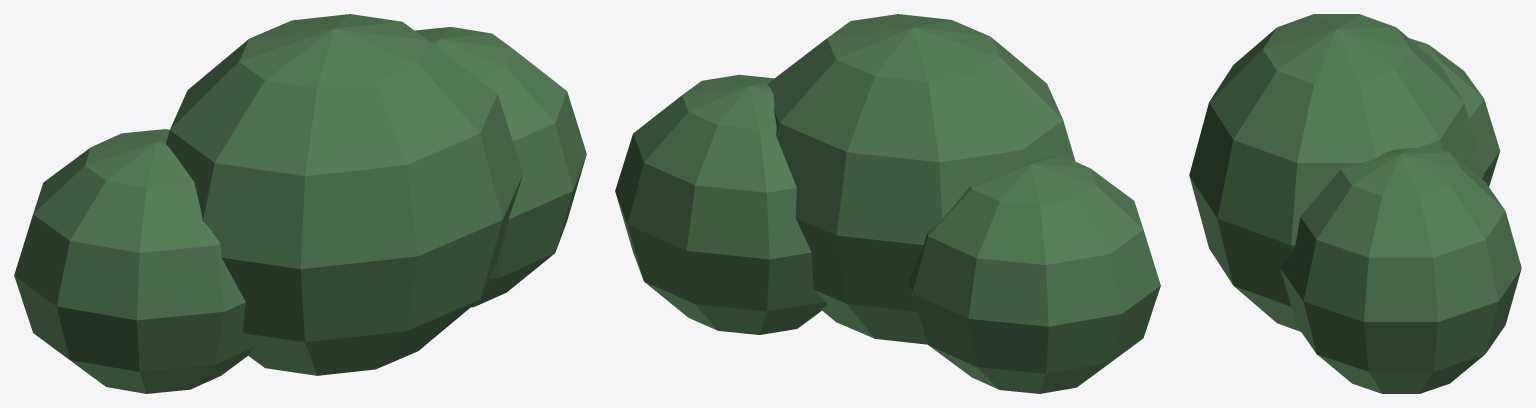
Rendered from SM_Bush.fbx.
3 views of the same model, side by side, from view 1: azimuth 30°, elevation 25°; view 2: azimuth 150°, elevation 25°; view 3: azimuth 270°, elevation 25° (orthographic). The views are drawn at different scales.
Visible parts, largest first — view 1: BushMesh; view 2: BushMesh; view 3: BushMesh.
Part boxes in pixels (x1=…): BushMesh: x1=14, y1=14, x2=586, y2=393; BushMesh: x1=615, y1=14, x2=1160, y2=393; BushMesh: x1=1189, y1=14, x2=1521, y2=393.
Bounding box in the file's own units: 1.03 × 0.6 × 0.62.
